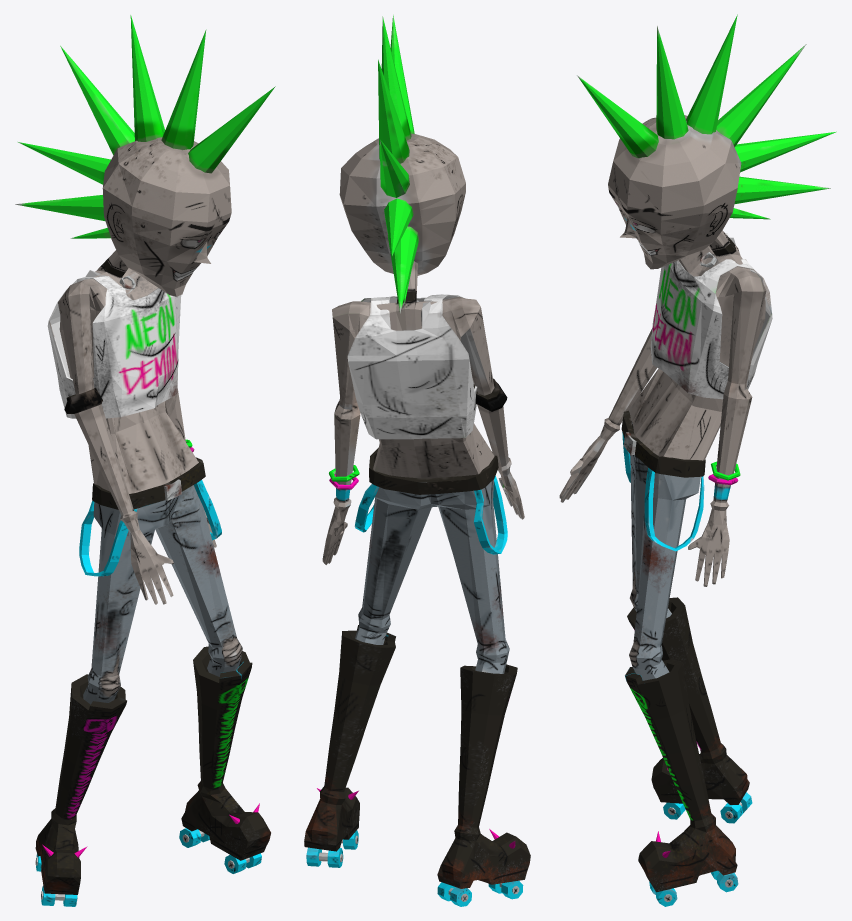
File: punkAnimation_000017.obj
The picture shows the model from 3 angles, left to right: view 1: azimuth 30°, elevation 25°; view 2: azimuth 150°, elevation 25°; view 3: azimuth 270°, elevation 25°; orthographic projection.
Parts seen in each view (by area): view 1: Cube.004_Cube.003; view 2: Cube.004_Cube.003; view 3: Cube.004_Cube.003.
Part boxes in pixels (x1,y1,x2,y2): Cube.004_Cube.003: (15,15,275,906); Cube.004_Cube.003: (304,14,530,906); Cube.004_Cube.003: (559,14,836,906).
Size of the model in its own units: 1.96 by 7.41 by 2.18.
